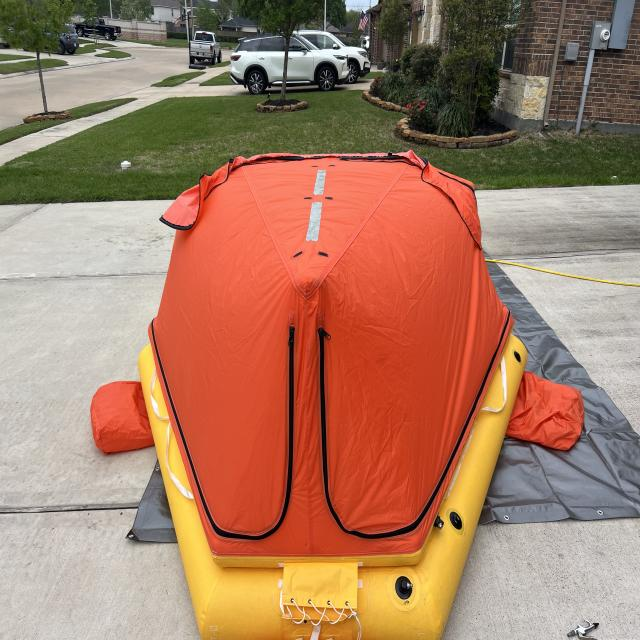Multi-person_life_raft: (90, 148, 584, 639)
